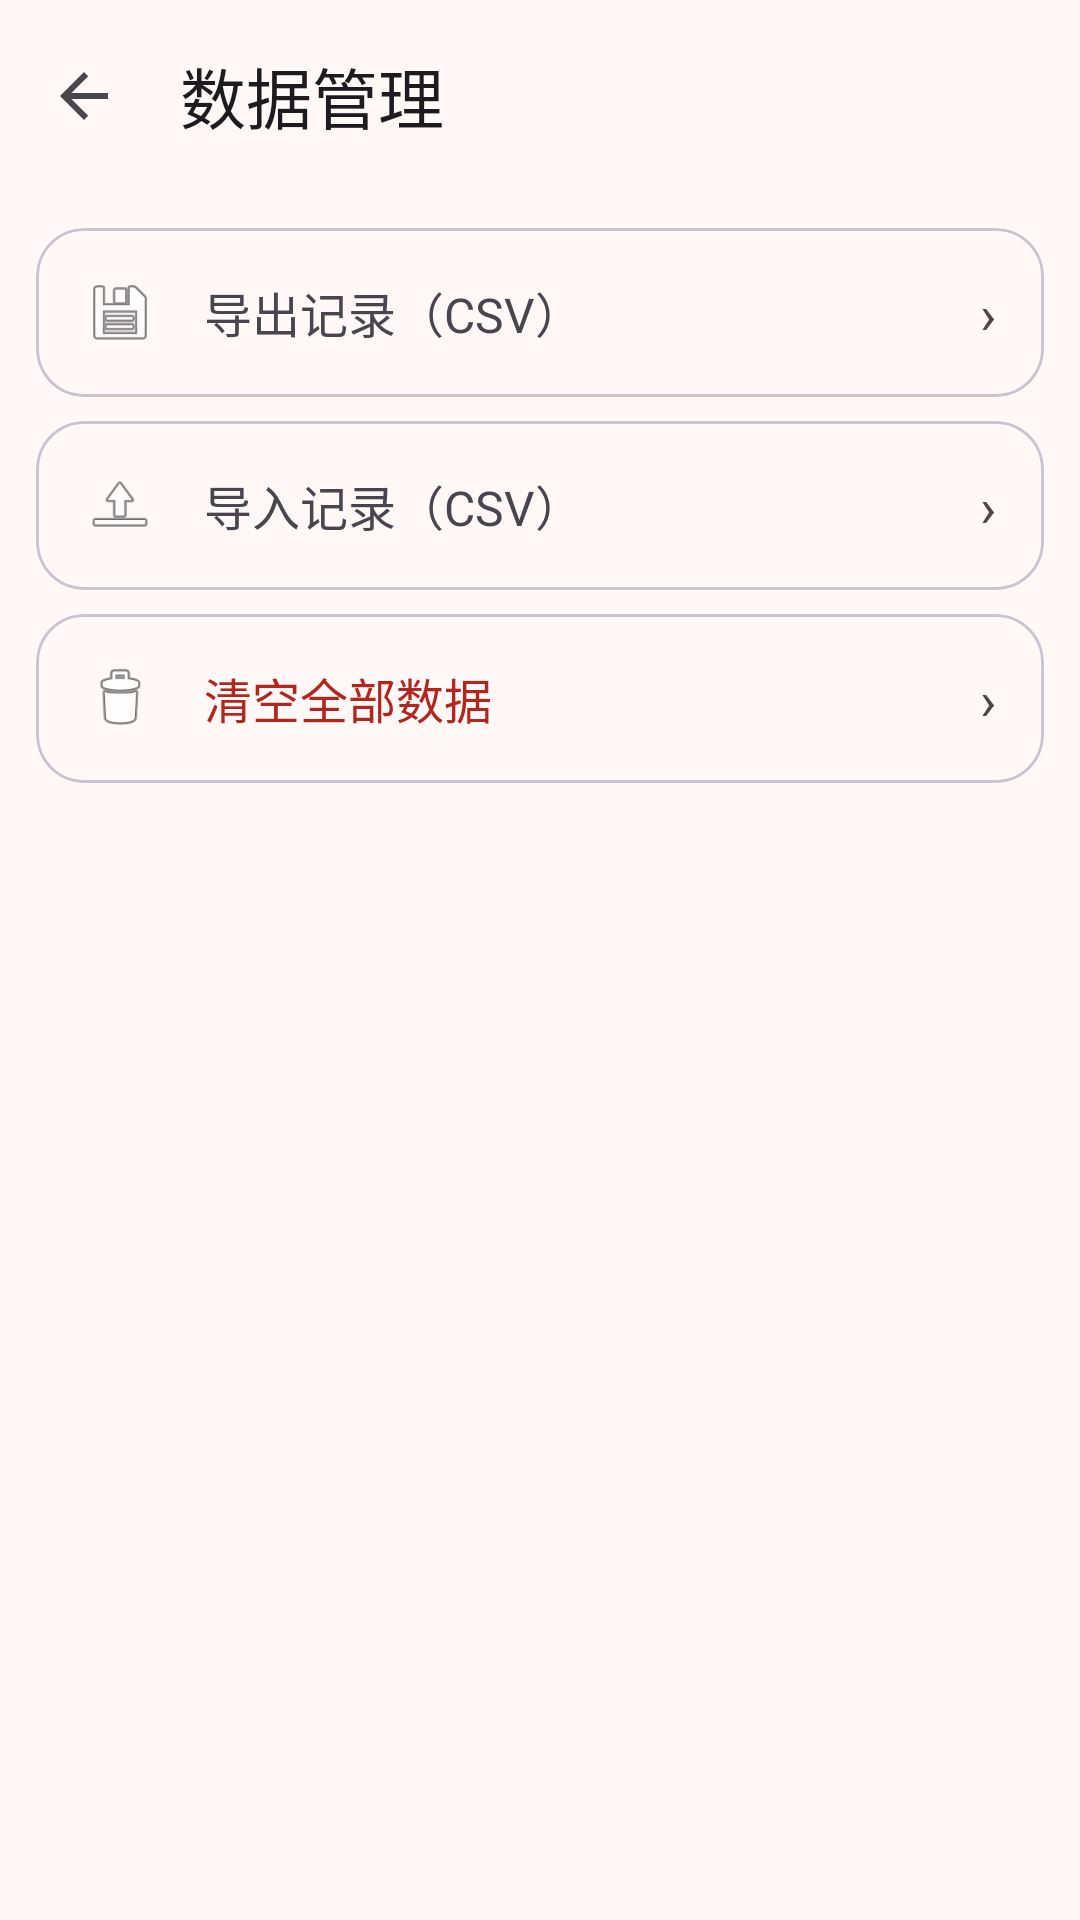

Icon bounding boxes for this 1080 × 1920 phone screenshot, format {"left": x1, "top": y1, "right": x2, "bottom": y2}:
delete: {"left": 100, "top": 669, "right": 141, "bottom": 725}
save: {"left": 93, "top": 285, "right": 147, "bottom": 340}
upload: {"left": 92, "top": 481, "right": 148, "bottom": 527}
